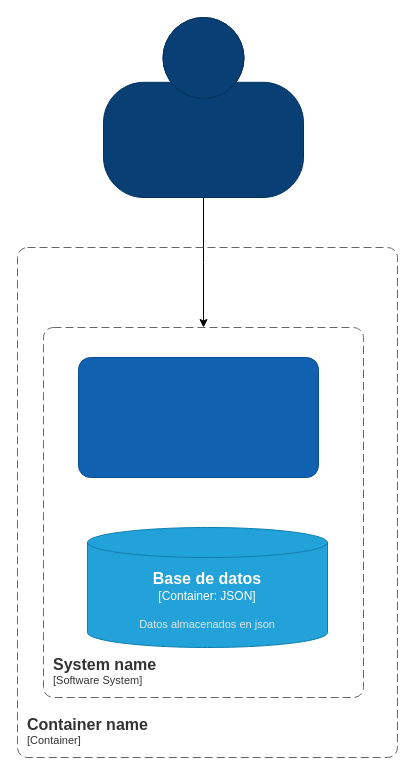
Some shapes in this 415 by 775 pixel diagram are drawn without their labels. The centre of each missing label's shape, as x and y in pixels:
"TodoList [Software System] Administrador de tareas" goes at point 198,417.
"Usuario [Usuario] Quien interactua con el sistema" goes at point 203,107.
